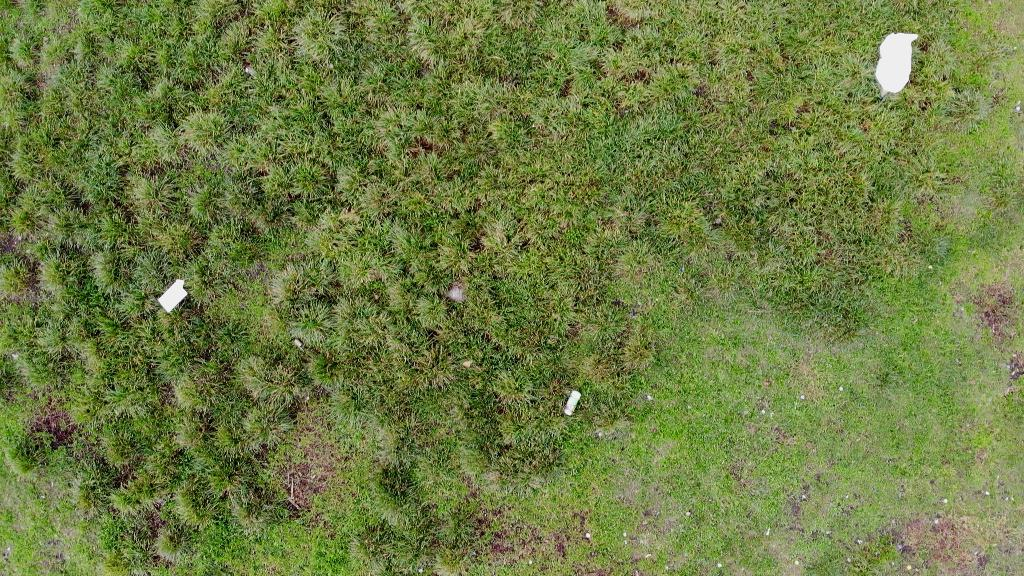garbage: (869, 32, 917, 100), (874, 33, 920, 92), (155, 279, 190, 316), (561, 388, 583, 417)
